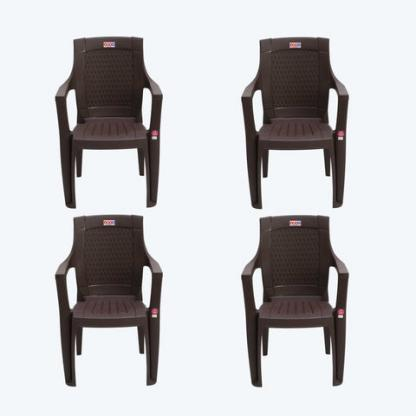chair: (26, 214, 168, 388), (230, 26, 355, 210), (219, 221, 354, 389), (51, 24, 166, 211)
